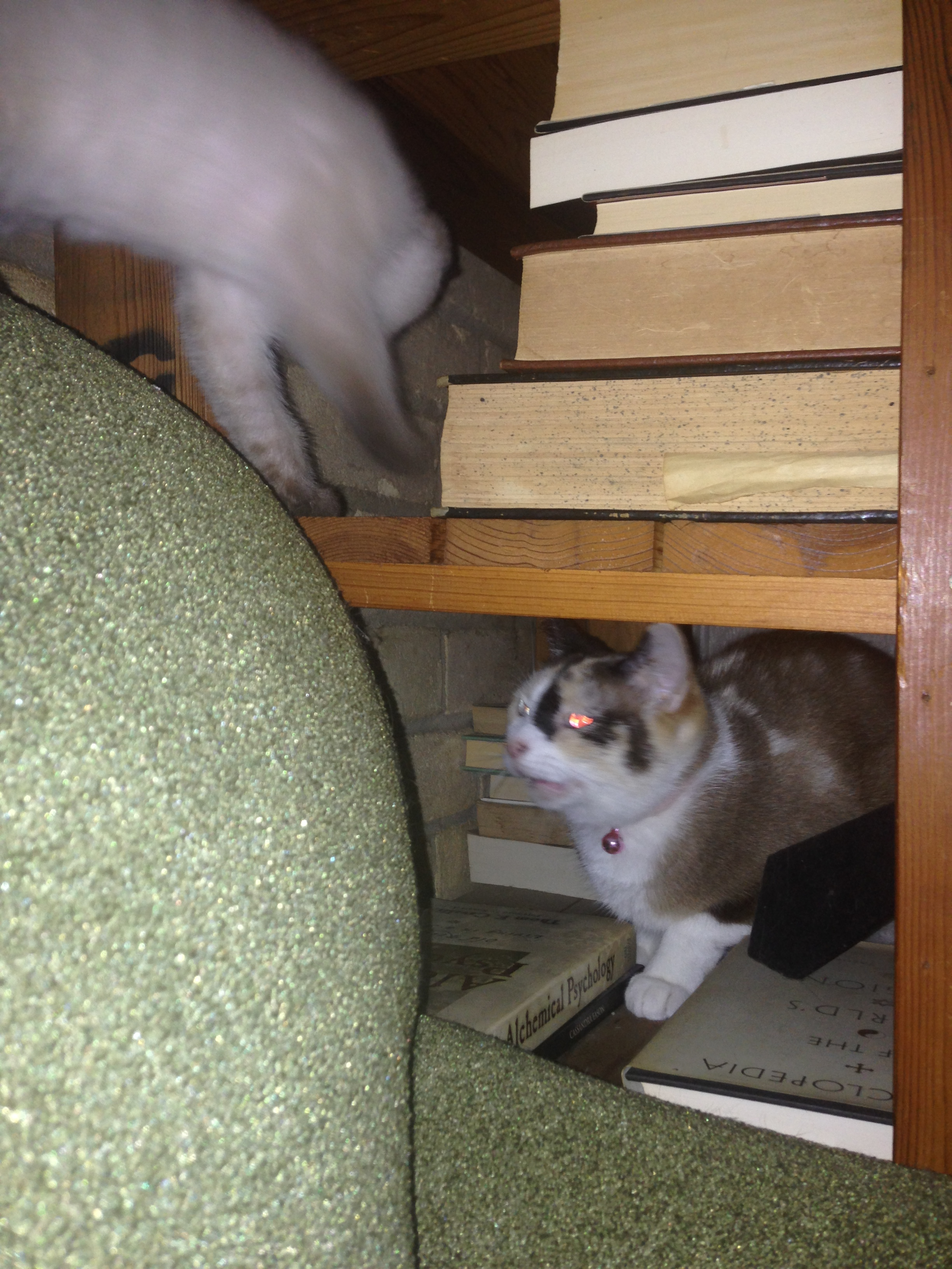cat: (0, 660, 390, 1268), (462, 76, 767, 621)
